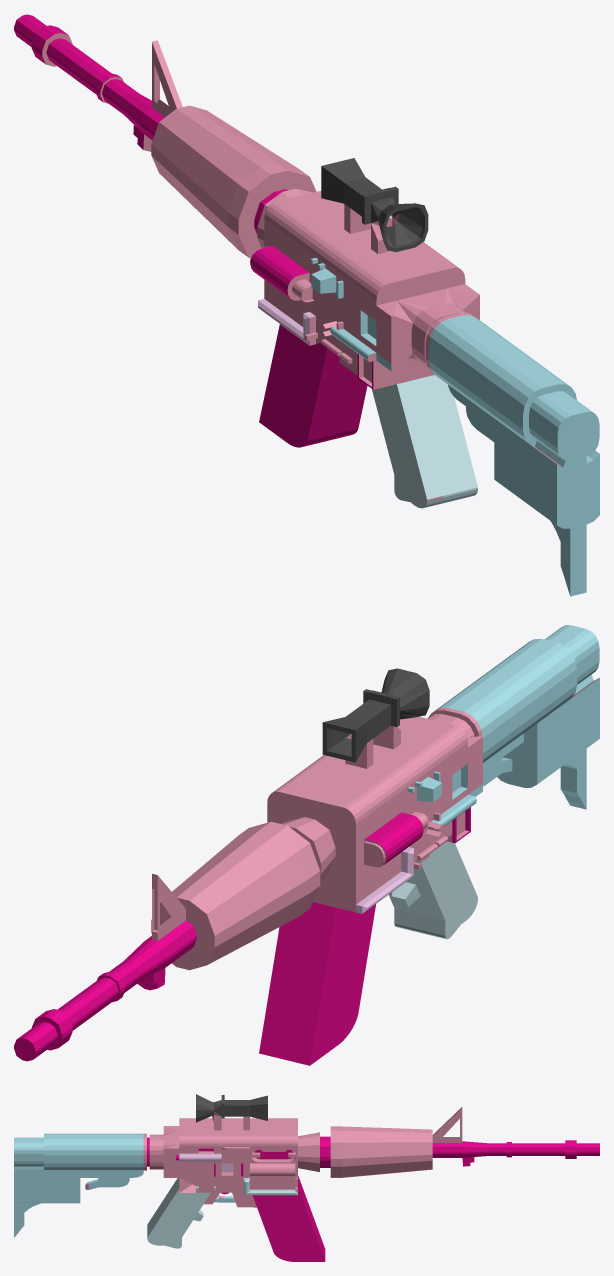
File: Final Sniper Gub.fbx
3 views of the same model, one above another, from view 1: azimuth 30°, elevation 25°; view 2: azimuth 150°, elevation 25°; view 3: azimuth 270°, elevation 25° (orthographic). The views are drawn at different scales.
Parts seen in each view (by area): view 1: low poly Tri mesh gun; view 2: low poly Tri mesh gun; view 3: low poly Tri mesh gun.
Part boxes in pixels (x1,y1,x2,y2): low poly Tri mesh gun: (14,14,599,596); low poly Tri mesh gun: (14,625,599,1065); low poly Tri mesh gun: (14,1094,599,1261).
Size of the model in its own units: 151 by 343 by 1150.
